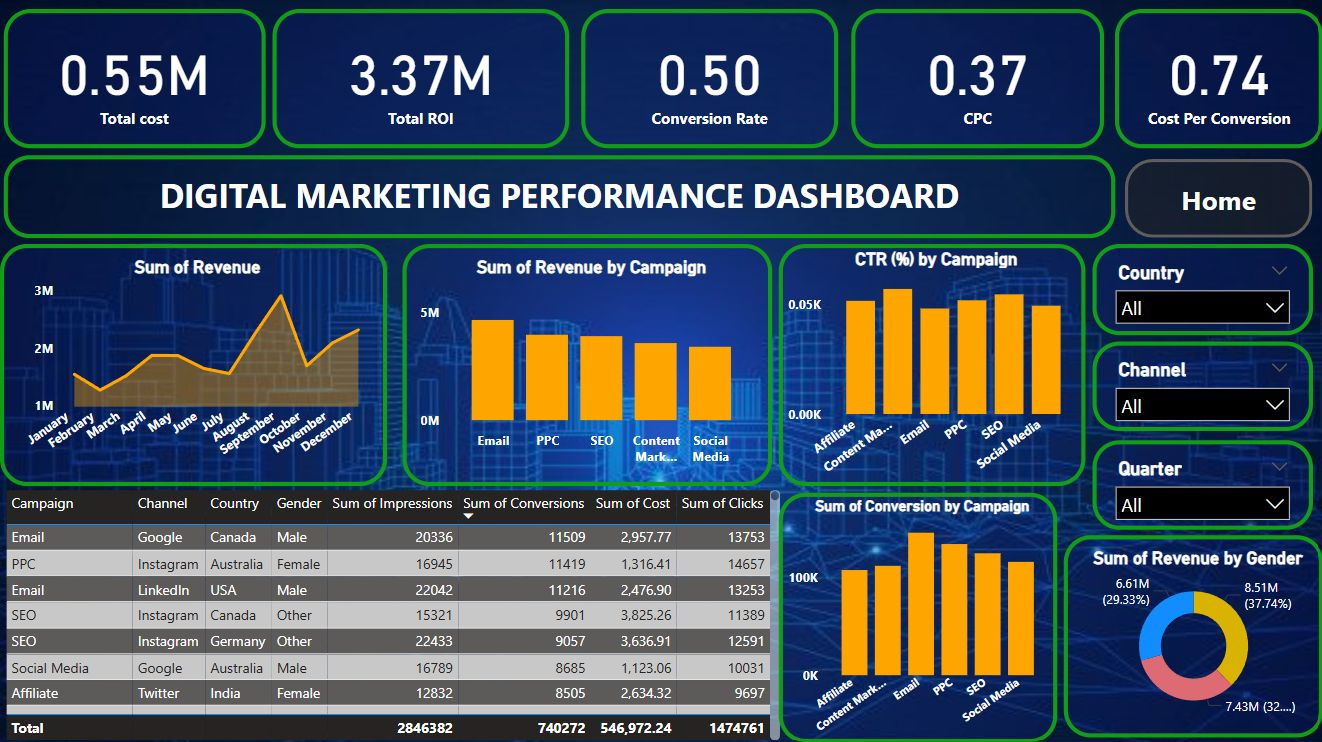

This screenshot's page, from the dashboard's own definition file:
{"tool":"powerbi","page":{"name":"Page 1","canvas":[1280,720],"ordinal":0},"visuals":[{"type":"card","fields":{"Values":["Sheet1.Conversion Rate"]},"box":[561.2,9.6,248.4,134.5],"z":0},{"type":"card","fields":{"Values":["Sheet1.Total ROI"]},"box":[263.5,9.6,286.8,134.5],"z":1000},{"type":"card","fields":{"Values":["Sheet1.Cost Per Conversion"]},"box":[1075.8,9.6,201.7,134.5],"z":2000},{"type":"card","fields":{"Values":["Sheet1.CPC"]},"box":[822,9.6,244.3,134.5],"z":3000},{"type":"card","fields":{"Values":["Sheet1.Total cost"]},"box":[4.1,9.6,252.5,134.5],"z":4000},{"type":"textbox","box":[3.6,150.8,1072.5,79.6],"z":5000},{"type":"stackedAreaChart","title":"Sum of Revenue ","fields":{"Category":["Sheet1.Date.Variation.Date Hierarchy.Month"],"Y":["Sum(Sheet1.Revenue)"]},"box":[0,236,373.2,233.3],"z":6000},{"type":"columnChart","fields":{"Category":["Sheet1.Campaign"],"Y":["Sum(Sheet1.Revenue)"]},"box":[388.3,236,356.8,233.3],"z":7000},{"type":"donutChart","fields":{"Category":["Sheet1.Gender"],"Y":["Sum(Sheet1.Revenue)"]},"box":[1026.4,517.3,251.1,194.9],"z":8000},{"type":"slicer","fields":{"Values":["Sheet1.Country"]},"box":[1053.9,236,212.7,87.8],"z":9000},{"type":"slicer","fields":{"Values":["Sheet1.Channel"]},"box":[1053.9,330.7,212.7,86.4],"z":10000},{"type":"slicer","fields":{"Values":["Sheet1.Date.Variation.Date Hierarchy.Quarter"]},"box":[1053.9,425.4,212.7,86.4],"z":11000},{"type":"tableEx","fields":{"Values":["Sheet1.Campaign","Sheet1.Channel","Sheet1.Country","Sheet1.Gender","Sum(Sheet1.Impressions)","Sum(Sheet1.Conversions)","Sum(Sheet1.Cost)","Sum(Sheet1.Clicks)"]},"box":[0,469.3,757.5,251.1],"z":12000},{"type":"actionButton","box":[1085.8,154.4,181,76],"z":13000},{"type":"columnChart","fields":{"Category":["Sheet1.Campaign"],"Y":["Sheet1.CTR (%)"]},"box":[752,236,296.4,233.3],"z":14000},{"type":"columnChart","title":"Sum of Conversion by Campaign","fields":{"Y":["Sum(Sheet1.Conversions)"],"Category":["Sheet1.Campaign"]},"box":[751.6,476.5,269,241.3],"z":15000}]}

Visuals, with their boxes in screenshot pixels (x1, y1, x2, y2), scaled from the page's 1280x720 canvas onto the 1322x742 screenshot:
card - Sheet1.Conversion Rate: x1=580, y1=10, x2=836, y2=149
card - Sheet1.Total ROI: x1=272, y1=10, x2=568, y2=149
card - Sheet1.Cost Per Conversion: x1=1111, y1=10, x2=1319, y2=149
card - Sheet1.CPC: x1=849, y1=10, x2=1101, y2=149
card - Sheet1.Total cost: x1=4, y1=10, x2=265, y2=149
textbox: x1=4, y1=155, x2=1111, y2=237
"Sum of Revenue " stackedAreaChart: x1=0, y1=243, x2=385, y2=484
columnChart - Sheet1.Campaign x Sum(Sheet1.Revenue): x1=401, y1=243, x2=770, y2=484
donutChart - Sheet1.Gender x Sum(Sheet1.Revenue): x1=1060, y1=533, x2=1319, y2=734
slicer - Sheet1.Country: x1=1088, y1=243, x2=1308, y2=334
slicer - Sheet1.Channel: x1=1088, y1=341, x2=1308, y2=430
slicer - Sheet1.Date.Variation.Date Hierarchy.Quarter: x1=1088, y1=438, x2=1308, y2=527
tableEx - Sheet1.Campaign x Sheet1.Channel: x1=0, y1=484, x2=782, y2=741
actionButton: x1=1121, y1=159, x2=1308, y2=237
columnChart - Sheet1.Campaign x Sheet1.CTR (%): x1=777, y1=243, x2=1083, y2=484
"Sum of Conversion by Campaign" columnChart: x1=776, y1=491, x2=1054, y2=740
